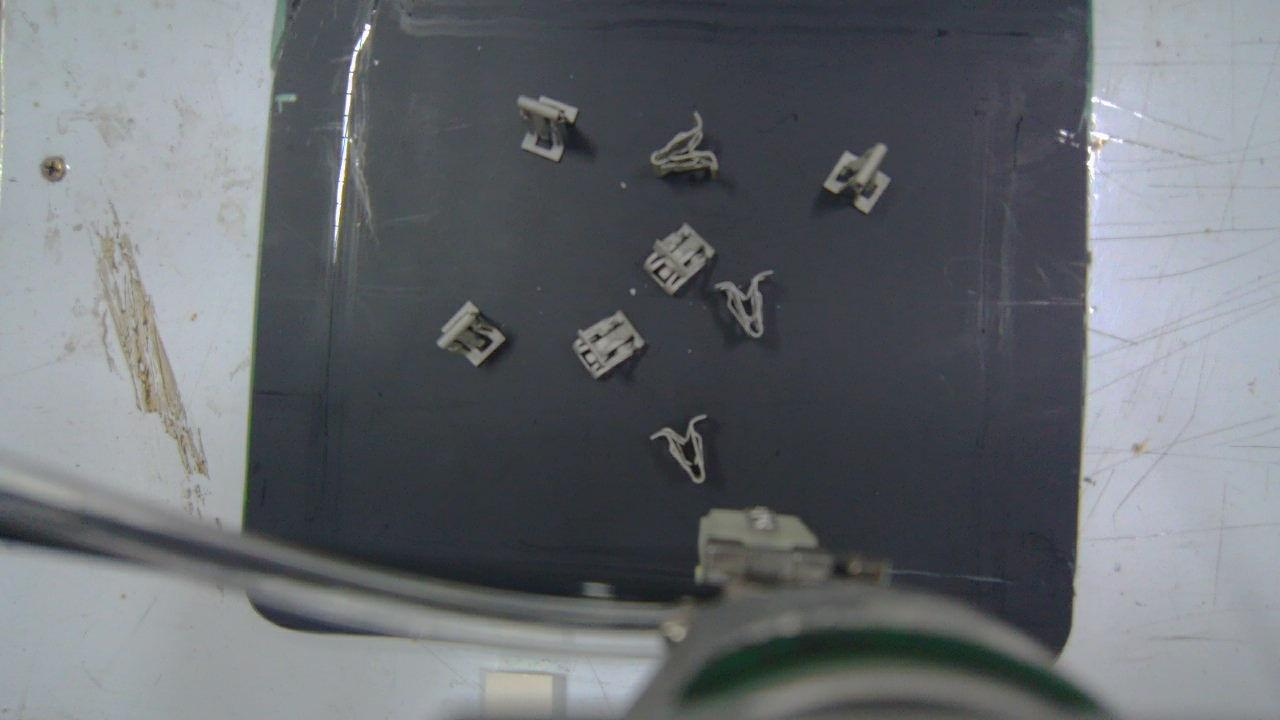ng: (643, 223, 716, 296), (572, 310, 646, 379), (435, 300, 506, 368), (652, 111, 719, 176), (516, 95, 578, 160), (650, 414, 706, 483), (717, 273, 772, 337)
pass: (823, 144, 892, 216)
